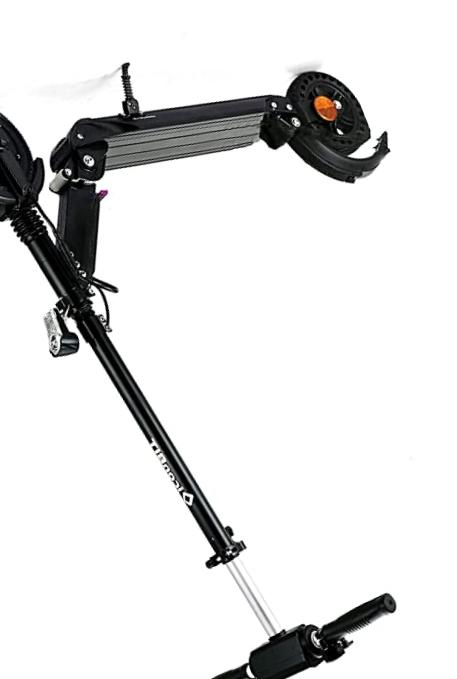scooter: (1, 61, 397, 679)
